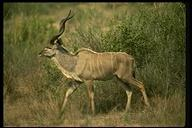antelope: (36, 7, 154, 116)
grass: (5, 17, 34, 122), (153, 97, 184, 124)
